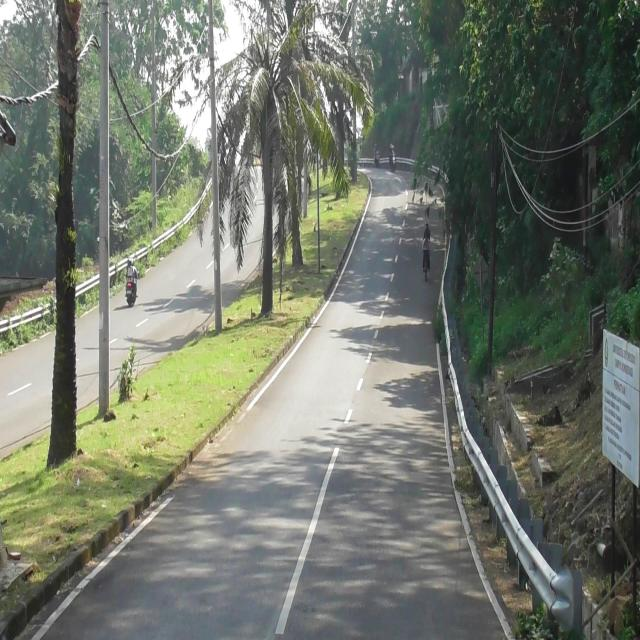motorcycle: (126, 282, 136, 307), (391, 156, 396, 172), (376, 152, 380, 167)
person: (126, 259, 134, 284), (132, 260, 138, 286), (391, 145, 395, 151), (376, 144, 379, 151), (389, 143, 392, 149)
rider_region: (122, 255, 138, 308), (389, 141, 398, 173), (374, 142, 381, 168)
